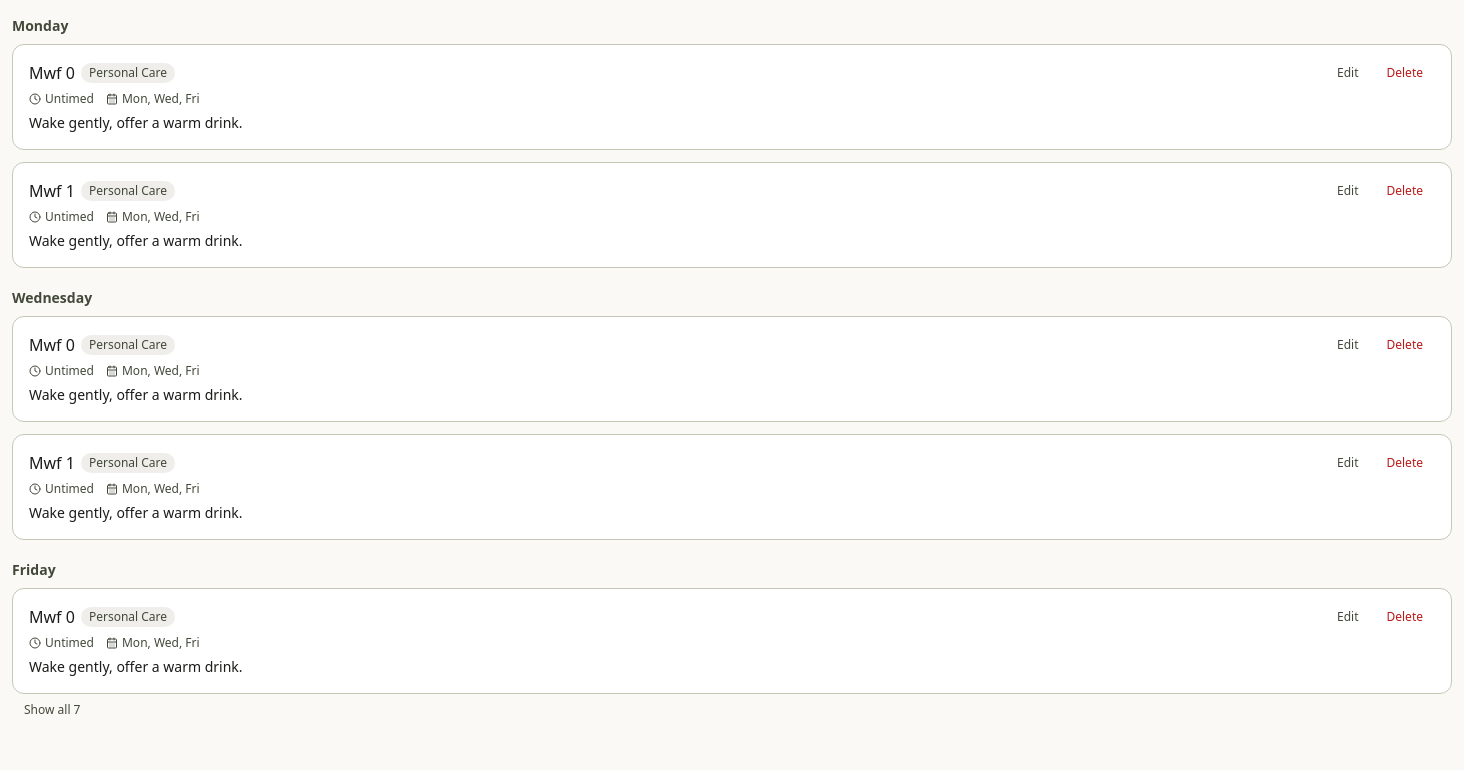
Test case: RoutinesTab — long list counts rows per day group (T10) › counts a Mon/Wed/Fri routine as 3 rows and hides a day header with no visible row
This screenshot has width=1464, height=770.
Expected: the text "Sunday only" is not shown
Click the button "Show all 7" at [52, 710], box [12,698,92,722]
(page scrolled)
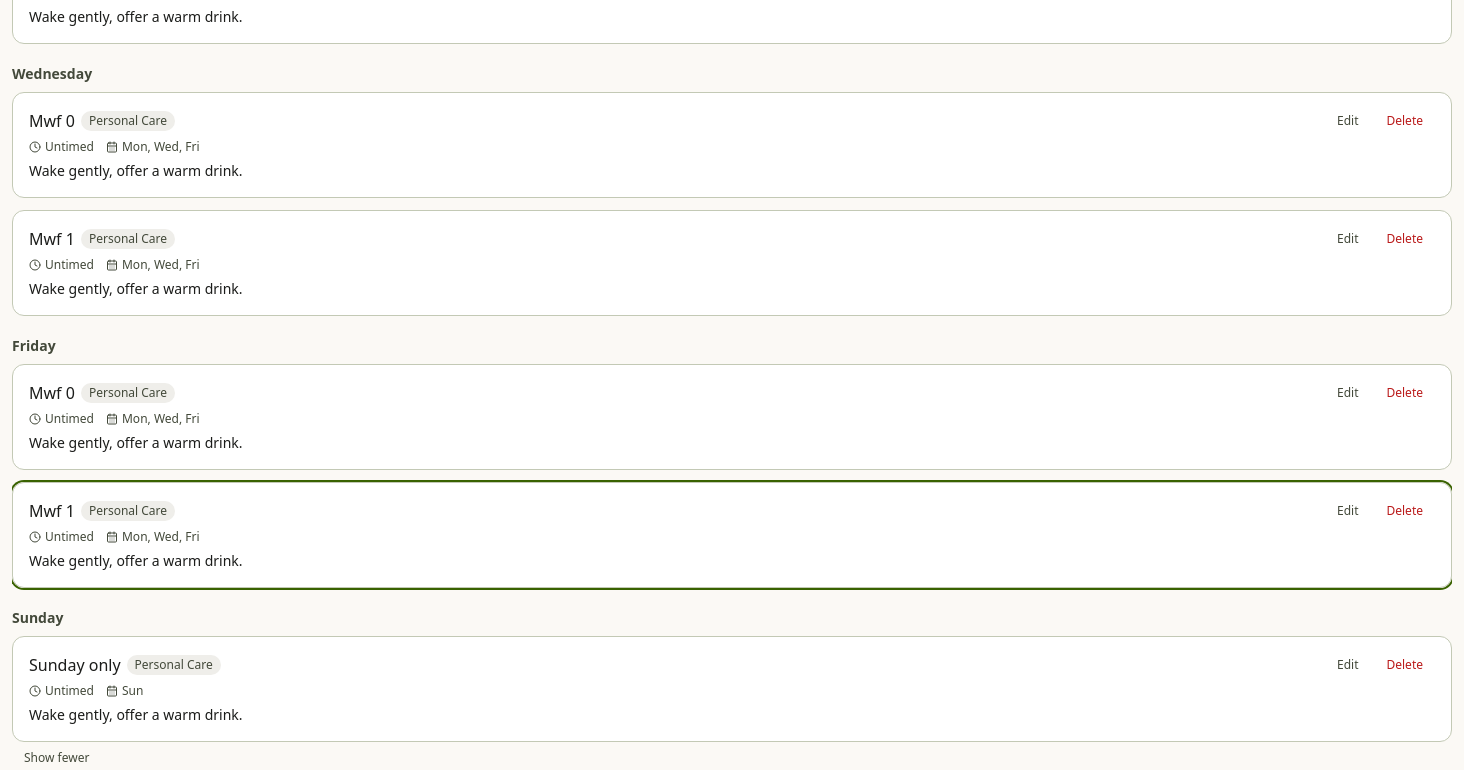
Result: the text "Sunday only" is shown at [29,653,121,677]
